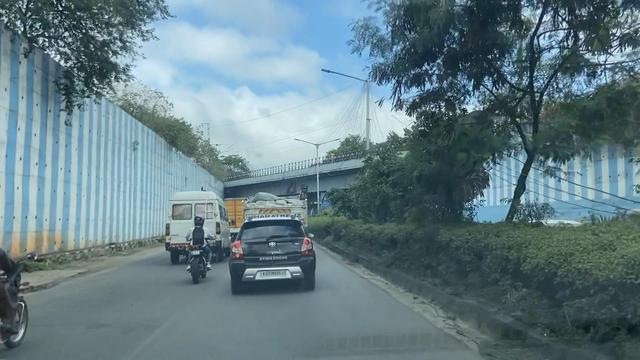HMV: (166, 194, 234, 267)
LMV: (223, 222, 317, 300), (181, 215, 212, 288)
